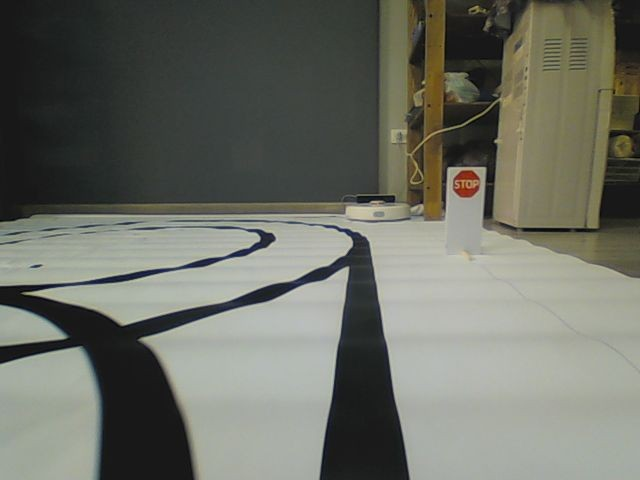Stop: (452, 169, 481, 199)
